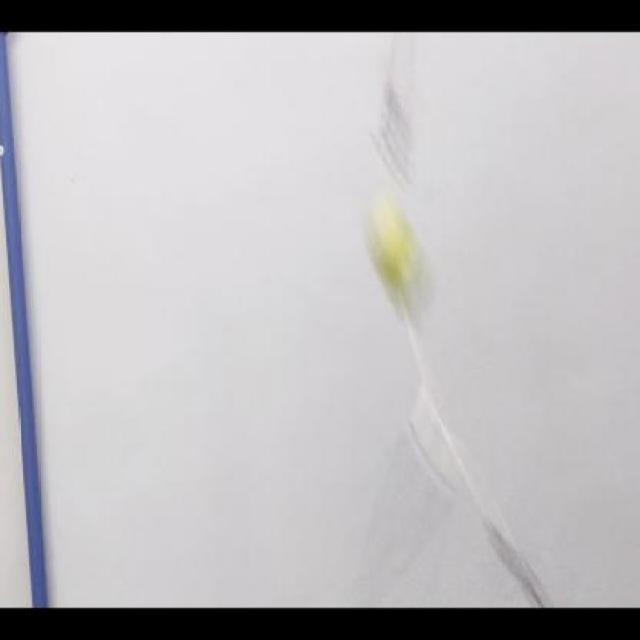baseball: (362, 195, 432, 308)
